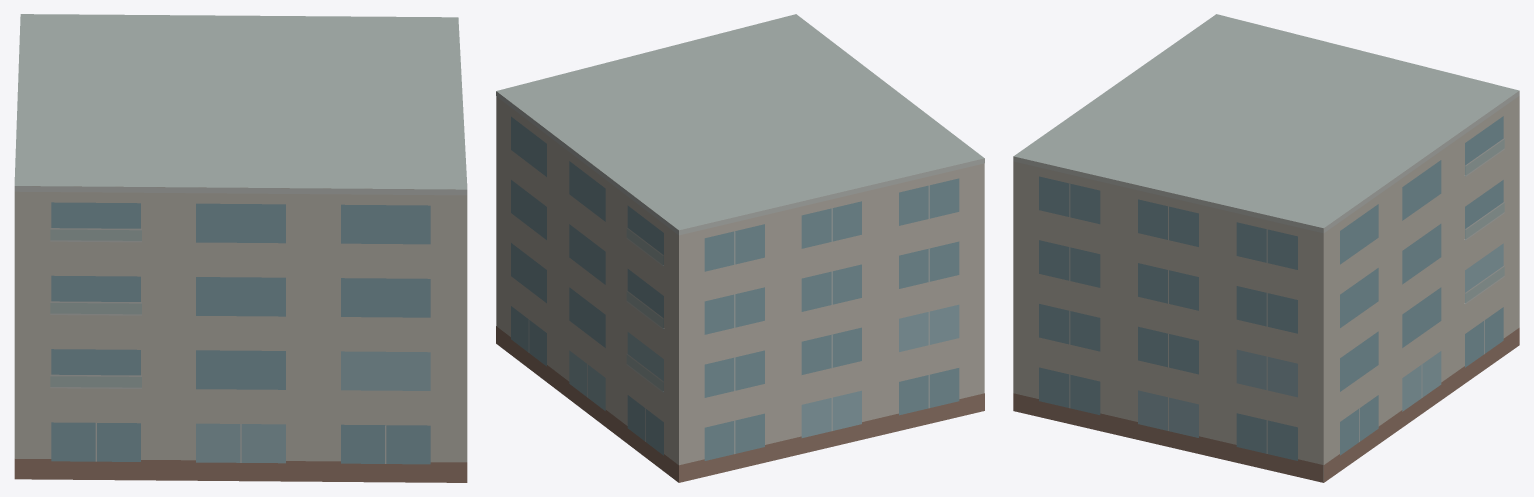
The model's file is survey-upis-32642920.glb.
The picture shows the model from 3 angles, left to right: view 1: azimuth 30°, elevation 25°; view 2: azimuth 150°, elevation 25°; view 3: azimuth 270°, elevation 25°; orthographic projection. The views are drawn at different scales.
Parts seen in each view (by area): view 1: survey-upis-32642920.tmp; view 2: survey-upis-32642920.tmp; view 3: survey-upis-32642920.tmp.
Part boxes in pixels (x1,y1,x2,y2): survey-upis-32642920.tmp: (14, 14, 467, 482); survey-upis-32642920.tmp: (496, 14, 984, 482); survey-upis-32642920.tmp: (1013, 14, 1519, 482).
Bounding box in the file's own units: 22.02 × 12.2 × 21.99.
